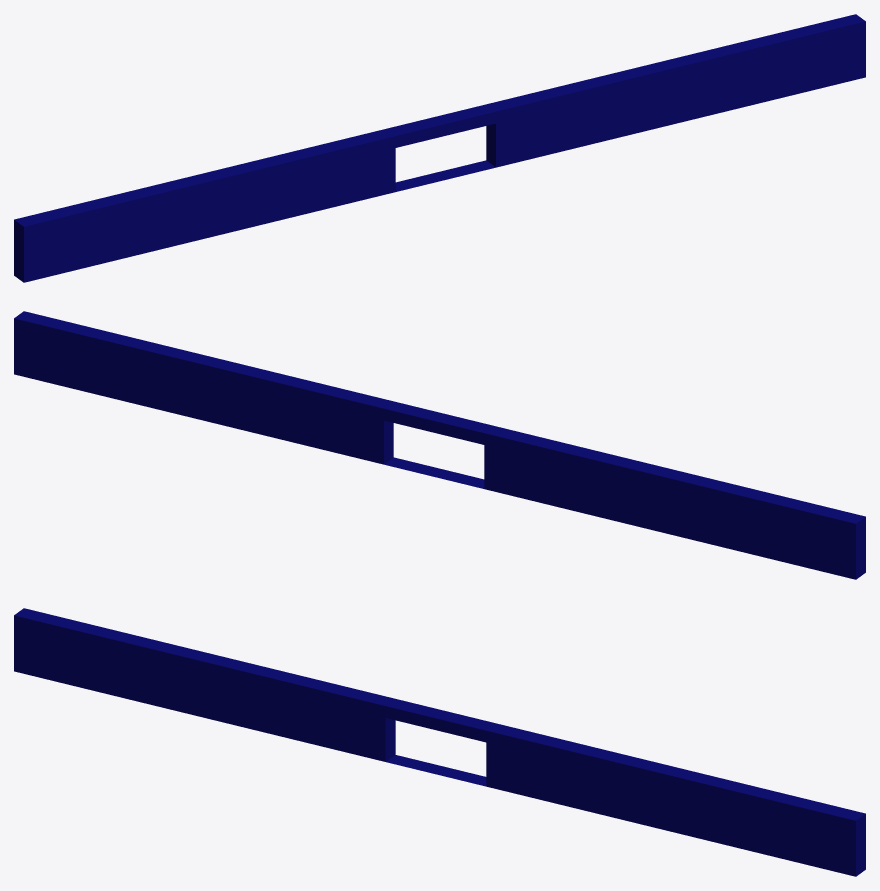
Rendered from BlueBase.fbx.
The picture shows the model from 3 angles, top to bottom: view 1: azimuth 30°, elevation 25°; view 2: azimuth 150°, elevation 25°; view 3: azimuth 330°, elevation 25°; orthographic projection.
Parts seen in each view (by area): view 1: BlueBase; view 2: BlueBase; view 3: BlueBase.
Part boxes in pixels (bbox=[...]): BlueBase: bbox=[14, 14, 865, 282]; BlueBase: bbox=[14, 311, 865, 579]; BlueBase: bbox=[14, 608, 865, 876].
Size of the model in its own units: 84803 by 5388 by 1736.
